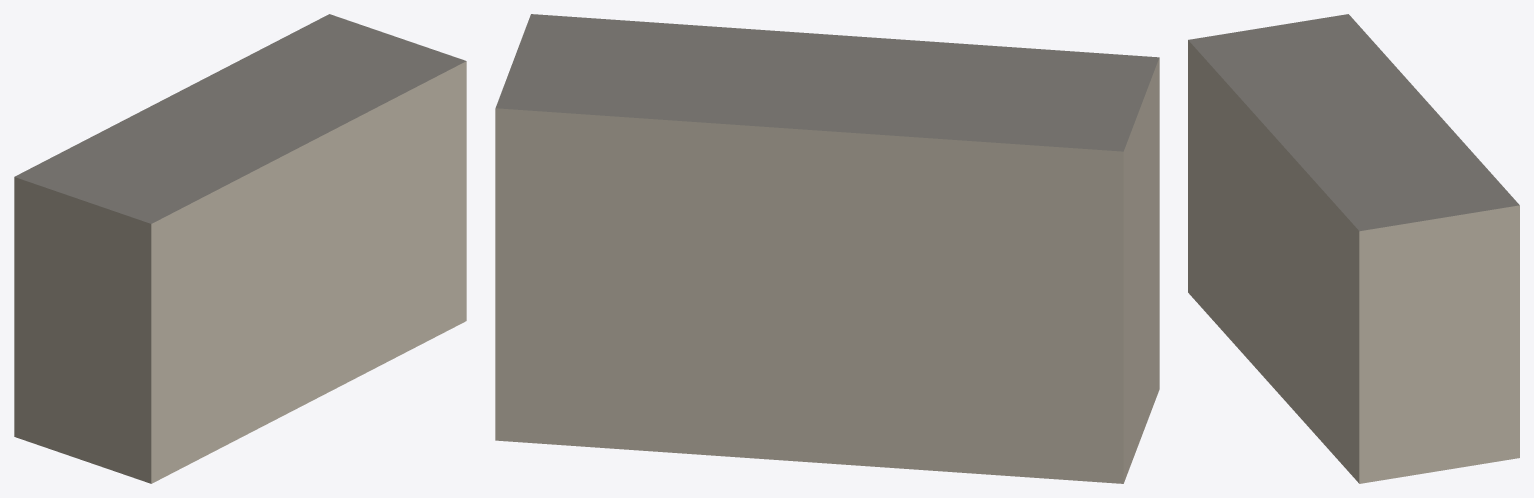
3 renders of one model, left to right at view 1: azimuth 30°, elevation 25°; view 2: azimuth 150°, elevation 25°; view 3: azimuth 270°, elevation 25°, orthographic. The views are drawn at different scales.
Visible parts, largest first — view 1: HP-w442027167; view 2: HP-w442027167; view 3: HP-w442027167.
Boxes of the visible parts, <box> form: HP-w442027167: <box>14,14,466,483</box>; HP-w442027167: <box>495,14,1159,483</box>; HP-w442027167: <box>1188,14,1519,483</box>.
Size of the model in its own units: 33.19 by 18 by 21.42.
